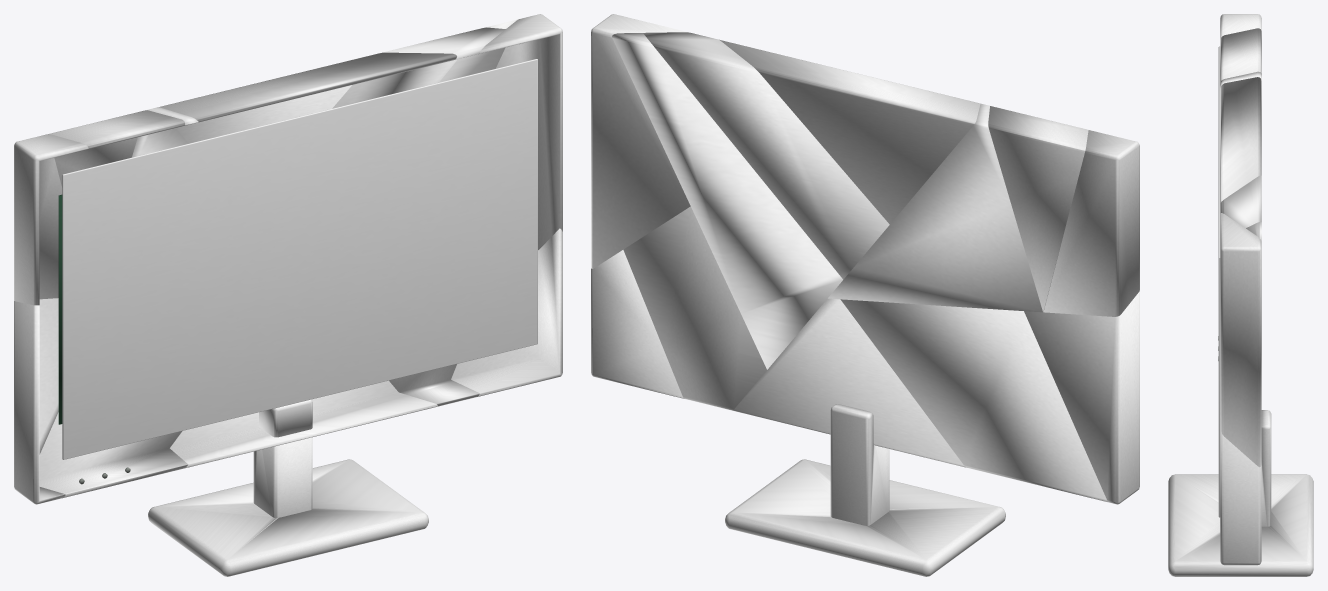
Rendered from fragments.glb.
3 renders of one model, left to right at view 1: azimuth 30°, elevation 25°; view 2: azimuth 150°, elevation 25°; view 3: azimuth 270°, elevation 25°, orthographic. The views are drawn at different scales.
Visible parts, largest first — view 1: fragment-012-screen, fragment-019-black, fragment-001-black, fragment-003-black, fragment-011-black, fragment-000-black, fragment-002-black, fragment-008-black, fragment-004-black, fragment-017-black, fragment-010-black, fragment-006-black (+5 smaller); view 2: fragment-004-black, fragment-007-black, fragment-005-black, fragment-006-black, fragment-001-black, fragment-019-black, fragment-009-black, fragment-000-black, fragment-002-black, fragment-003-black, fragment-011-black, fragment-010-black (+2 smaller); view 3: fragment-019-black, fragment-002-black, fragment-008-black, fragment-001-black, fragment-010-black, fragment-006-black, fragment-012-screen, fragment-017-black, fragment-011-black, fragment-005-black.
Part boxes in pixels (left/top/right/bottom): fragment-012-screen: left=62, top=59, right=537, bottom=459; fragment-019-black: left=148, top=459, right=428, bottom=576; fragment-001-black: left=159, top=52, right=456, bottom=143; fragment-003-black: left=14, top=298, right=65, bottom=504; fragment-011-black: left=14, top=134, right=88, bottom=305; fragment-000-black: left=170, top=380, right=437, bottom=468; fragment-002-black: left=479, top=14, right=562, bottom=249; fragment-008-black: left=451, top=228, right=562, bottom=396; fragment-004-black: left=39, top=412, right=188, bottom=498; fragment-017-black: left=253, top=437, right=312, bottom=517; fragment-010-black: left=49, top=110, right=184, bottom=187; fragment-006-black: left=332, top=27, right=505, bottom=108; fragment-004-black: left=840, top=299, right=1107, bottom=501; fragment-007-black: left=612, top=33, right=842, bottom=369; fragment-005-black: left=828, top=103, right=1042, bottom=312; fragment-006-black: left=643, top=32, right=889, bottom=279; fragment-001-black: left=719, top=39, right=980, bottom=224; fragment-019-black: left=725, top=459, right=1005, bottom=576; fragment-009-black: left=623, top=206, right=766, bottom=410; fragment-000-black: left=733, top=298, right=966, bottom=467; fragment-002-black: left=591, top=14, right=690, bottom=268; fragment-003-black: left=1024, top=290, right=1139, bottom=504; fragment-011-black: left=1043, top=130, right=1139, bottom=316; fragment-010-black: left=988, top=106, right=1088, bottom=312; fragment-019-black: left=1168, top=474, right=1313, bottom=576; fragment-002-black: left=1220, top=213, right=1261, bottom=467; fragment-008-black: left=1220, top=429, right=1261, bottom=565; fragment-001-black: left=1220, top=77, right=1261, bottom=202; fragment-010-black: left=1220, top=28, right=1261, bottom=82; fragment-006-black: left=1220, top=175, right=1261, bottom=228; fragment-012-screen: left=1218, top=46, right=1220, bottom=517; fragment-017-black: left=1261, top=410, right=1271, bottom=526; fragment-011-black: left=1220, top=14, right=1261, bottom=39; fragment-005-black: left=1220, top=71, right=1261, bottom=87.
Bounding box in the file's own units: 0.46 × 0.367 × 0.12.
4 materials, 4 textured.
